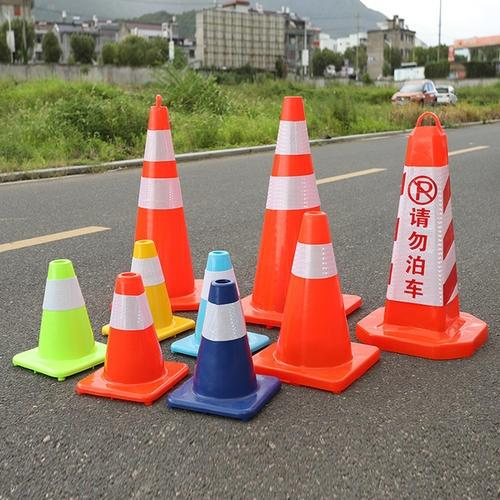cone_barrel: (367, 114, 478, 351), (246, 107, 340, 319), (121, 94, 198, 328), (271, 208, 358, 379), (89, 266, 173, 398), (185, 280, 264, 409), (15, 258, 100, 376), (128, 236, 172, 330)
